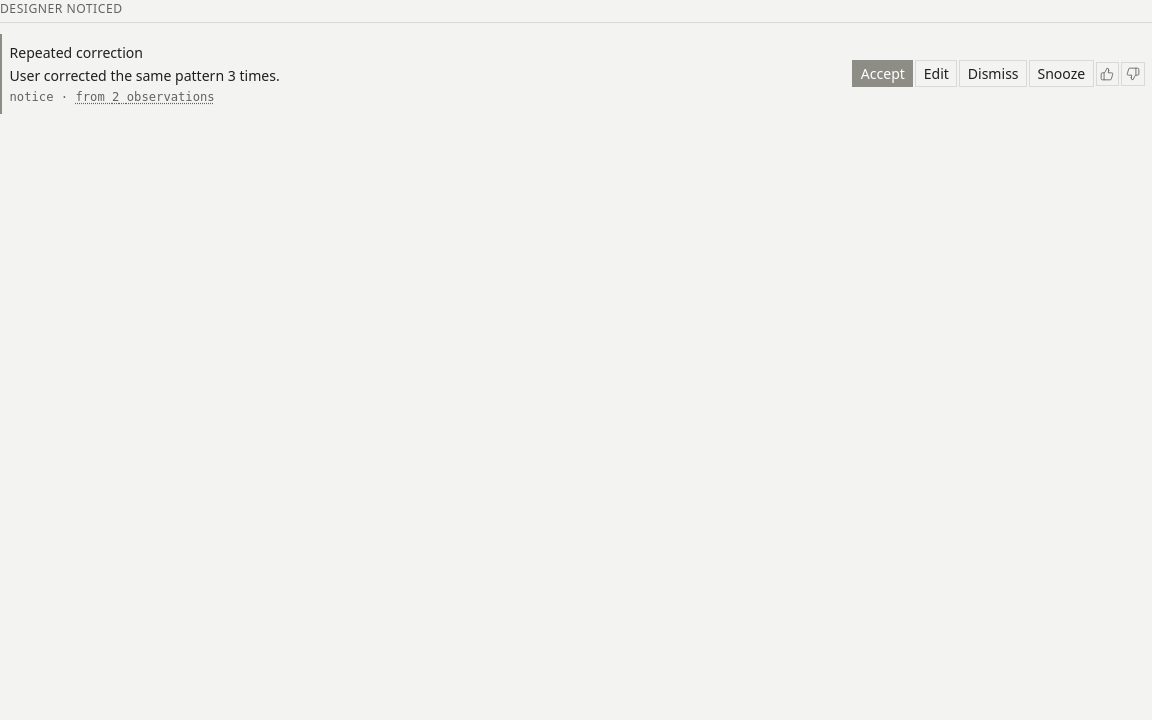
Test: DesignerNoticedHome (Phase 21.A1.2 — proposals over findings) › expands the evidence drawer when 'from N observations' is clicked
Click the button "from 2 observations".
click(145, 97)  # box [76,88,215,106]
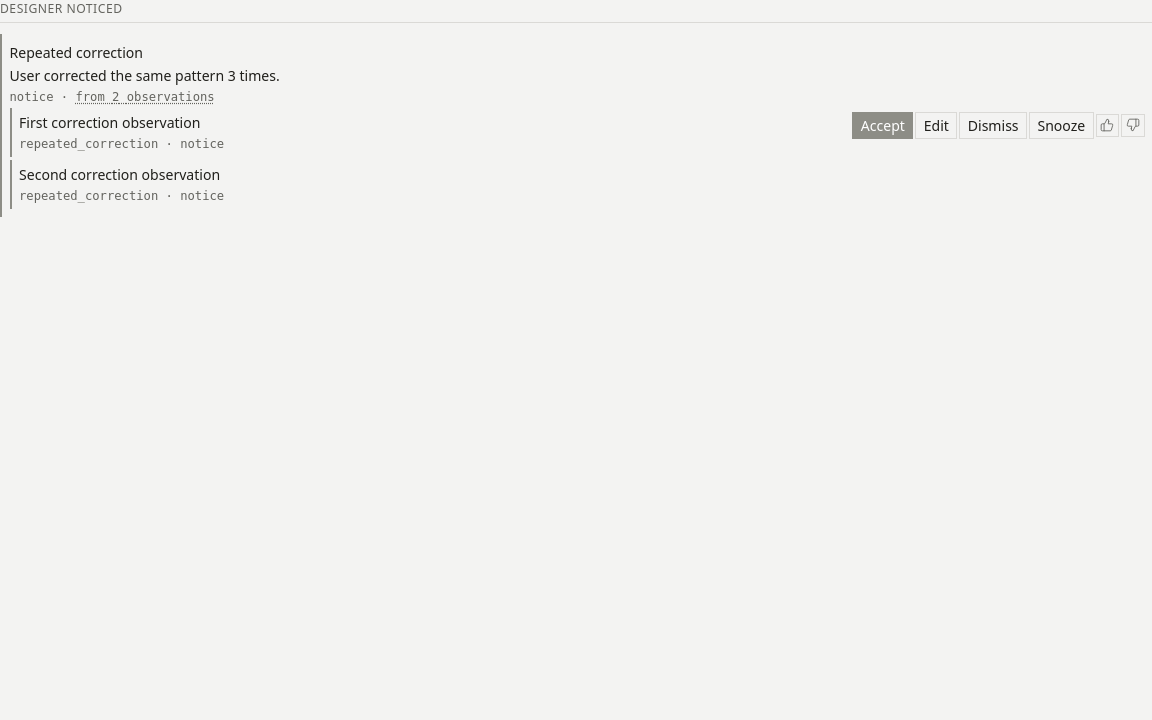
Result: the text "First correction observation" is shown at [19,113,200,132]
Result: the text "Second correction observation" is shown at [19,165,220,184]
